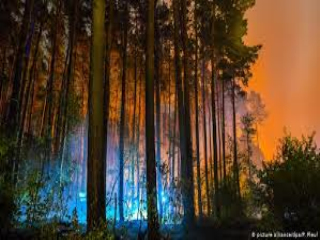smoke: (210, 86, 258, 160)
